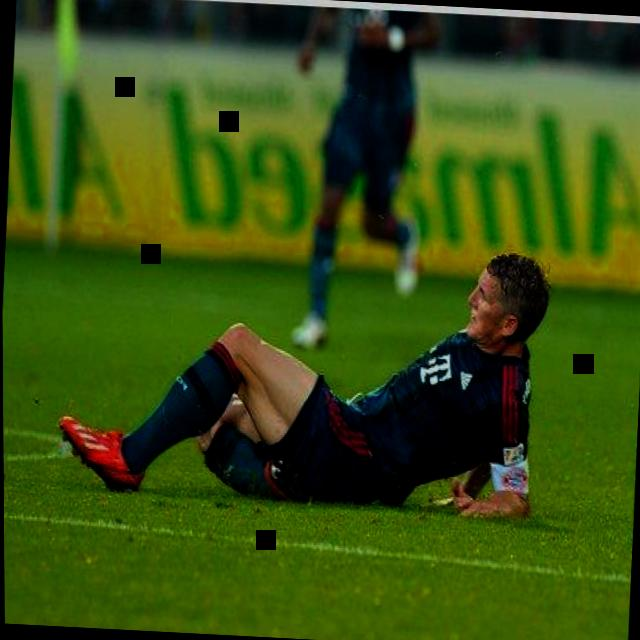Fall-Detected: (40, 208, 555, 520)
